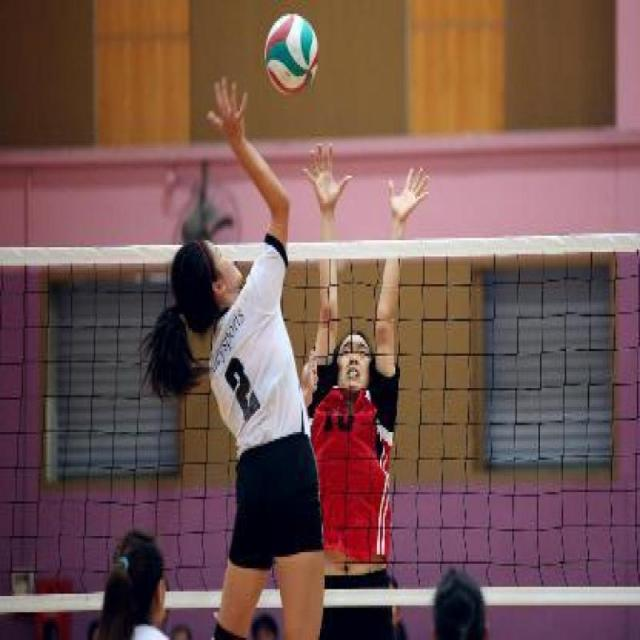volleyball: (264, 14, 319, 95)
